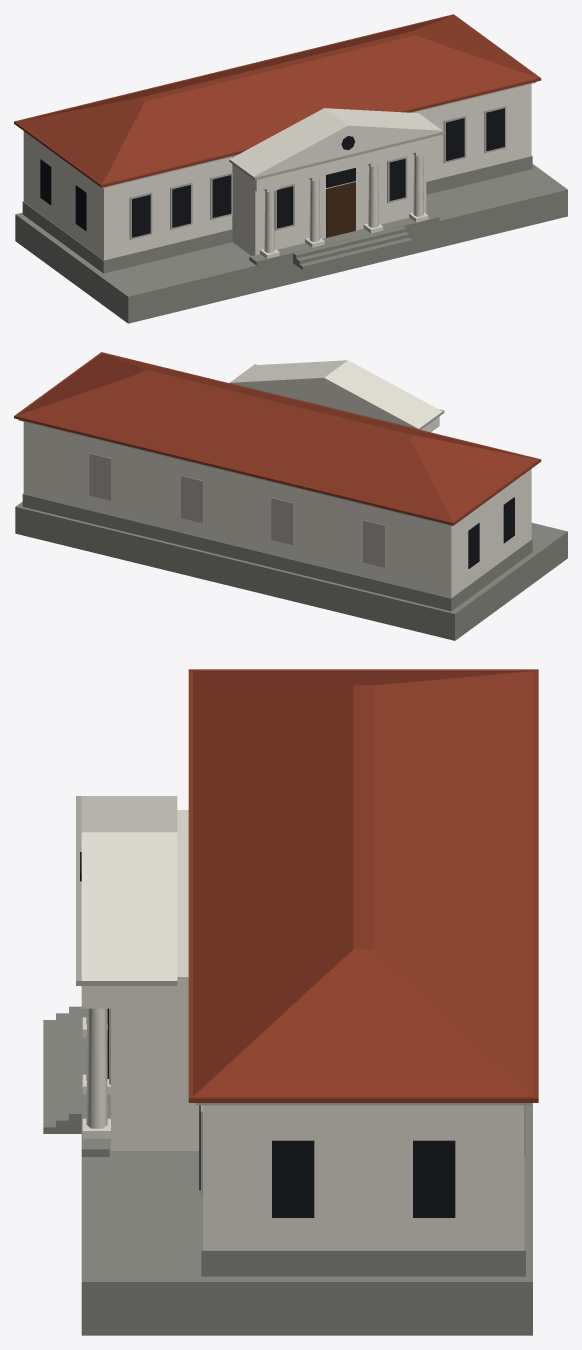
The model's file is museum_bogor.glb.
3 views of the same model, one above another, from view 1: azimuth 30°, elevation 25°; view 2: azimuth 150°, elevation 25°; view 3: azimuth 270°, elevation 25° (orthographic). The views are drawn at different scales.
Visible parts, largest first — view 1: body; view 2: body; view 3: body.
Boxes of the visible parts, bbox=[...] form: body: bbox=[14, 14, 567, 323]; body: bbox=[14, 352, 567, 640]; body: bbox=[43, 669, 538, 1335].
Size of the model in its own units: 36 by 11.88 by 17.55.
Materials: 1 (1 with a texture image).
